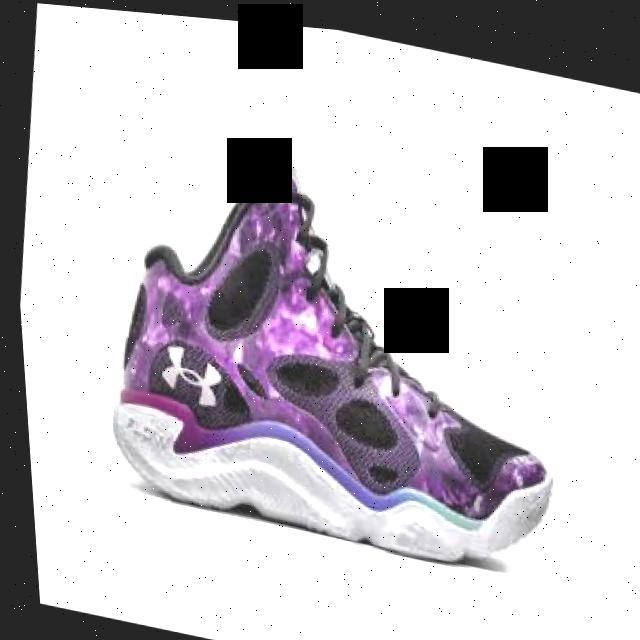shoe: (81, 97, 595, 576)
